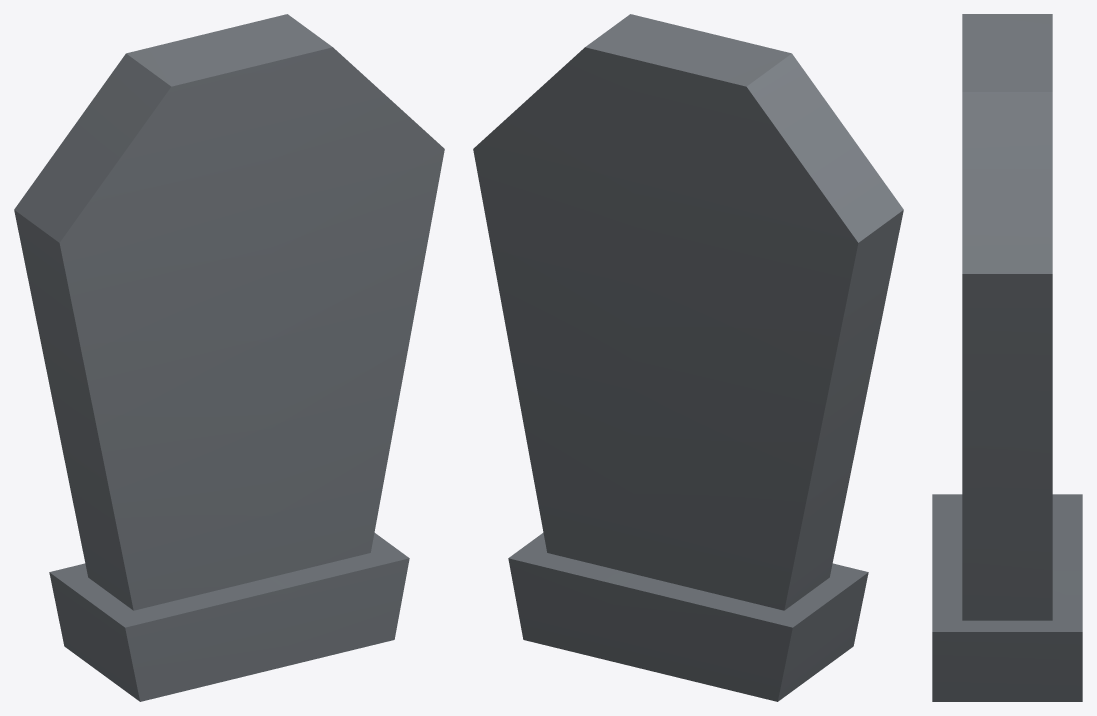
Rendered from grave_stone4.fbx.
The picture shows the model from 3 angles, left to right: view 1: azimuth 30°, elevation 25°; view 2: azimuth 150°, elevation 25°; view 3: azimuth 270°, elevation 25°; orthographic projection.
Visible parts, largest first — view 1: grave_stone4; view 2: grave_stone4; view 3: grave_stone4.
Boxes of the visible parts, left/top/right/bottom form: grave_stone4: left=14, top=14, right=444, bottom=701; grave_stone4: left=473, top=14, right=903, bottom=701; grave_stone4: left=932, top=14, right=1082, bottom=701.
Bounding box in the file's own units: 4.89 × 7.19 × 1.67.
